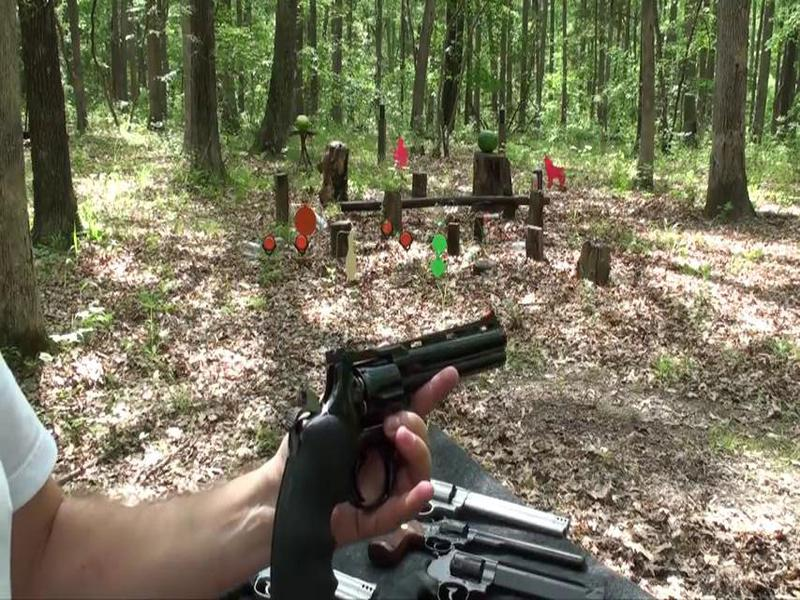Revolver: (273, 288, 501, 544)
